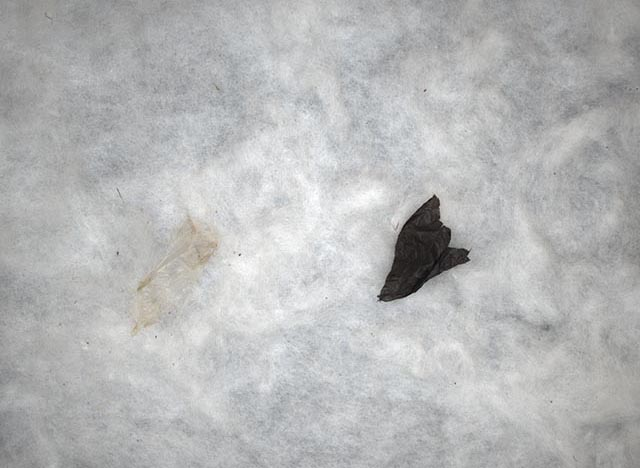plastic film: (376, 192, 473, 302), (130, 218, 214, 331)
